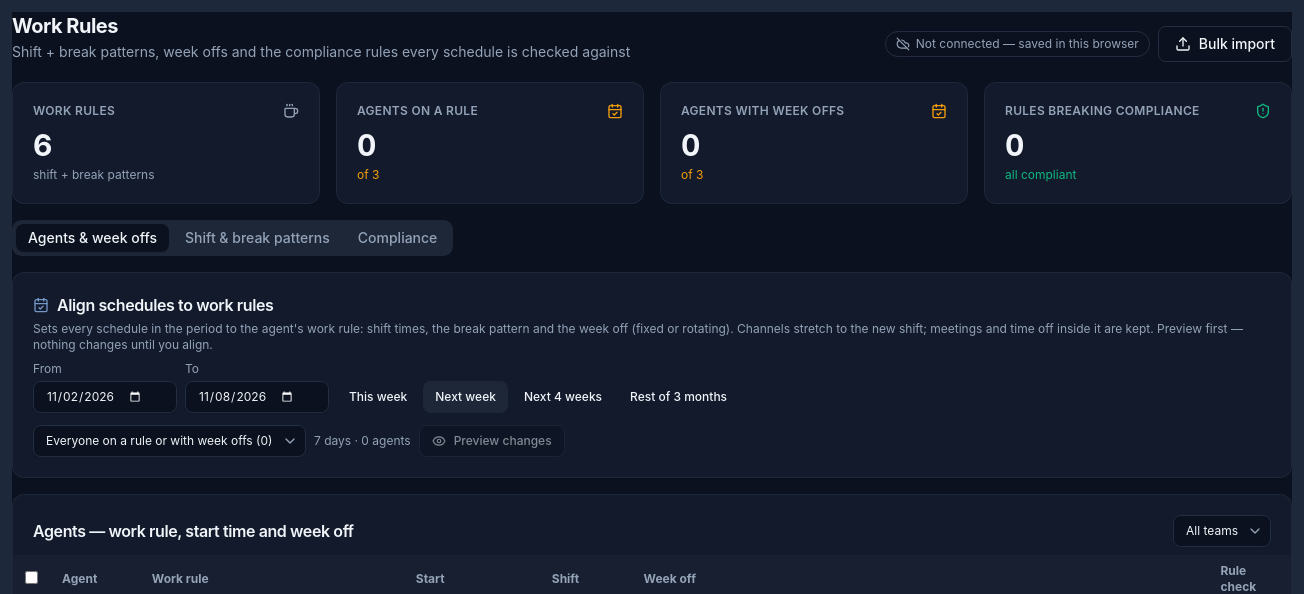
Work Rules page › staggers two days off in a row across the selected agents
Click the checkbox named "Select all": (32, 577) [25, 570, 38, 584]
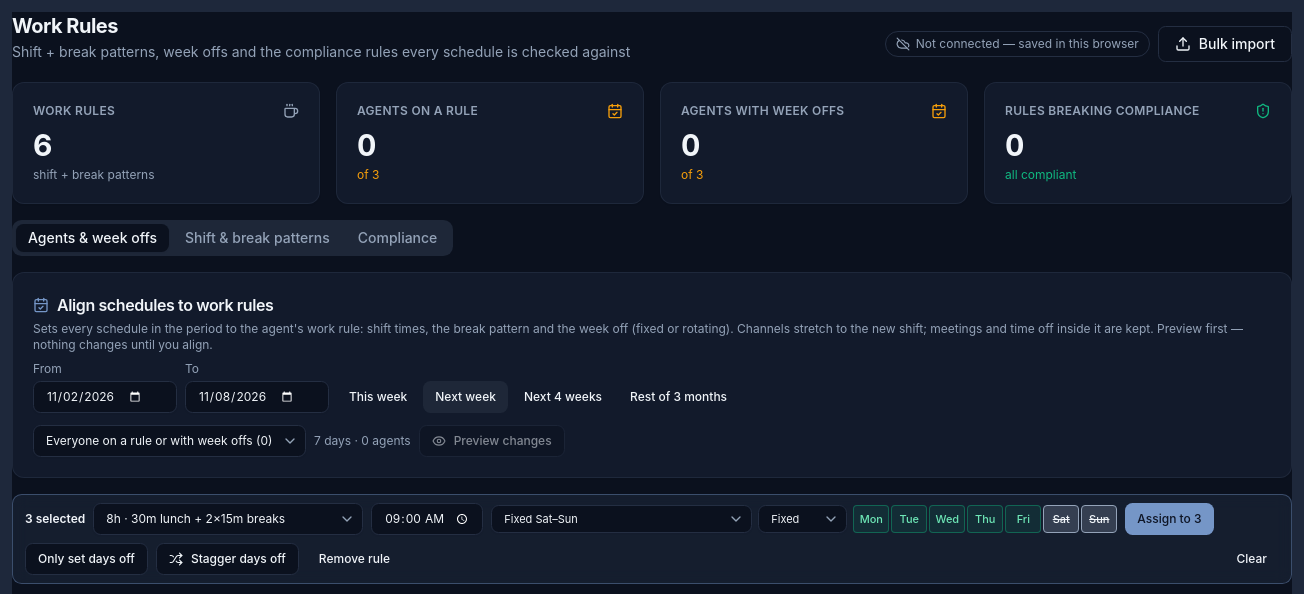
Click the button "Stagger days off": (227, 559) [156, 543, 299, 575]
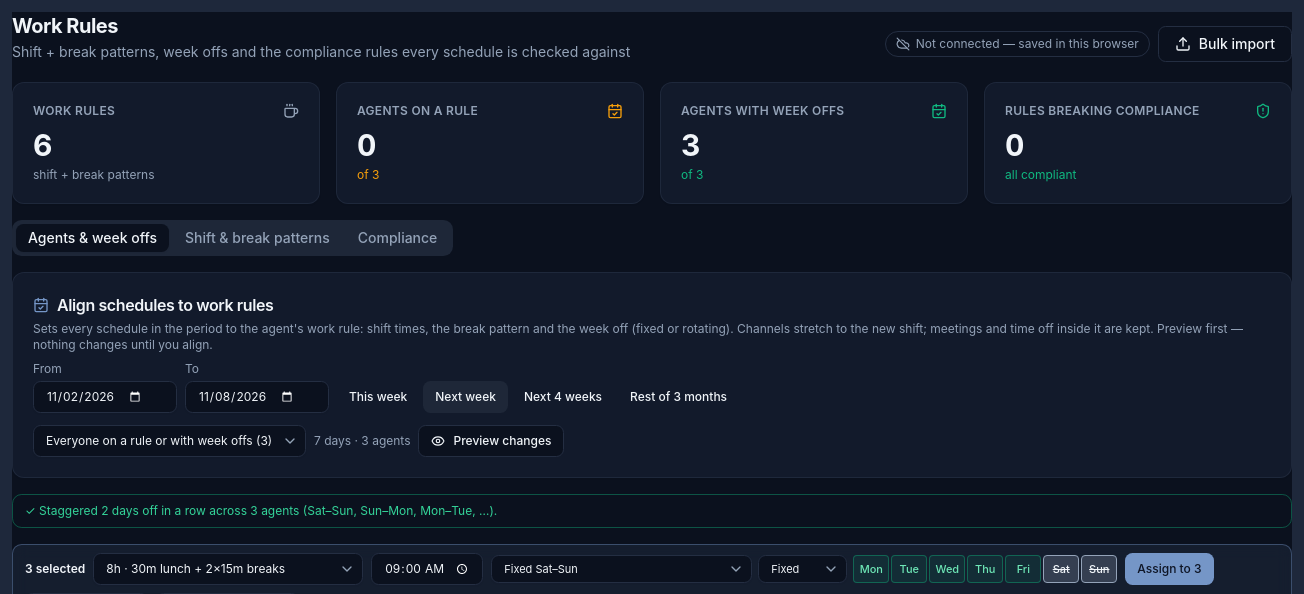
expect the text "Staggered 2 days off in a row across 3 agents" is shown: met, box [39, 503, 497, 518]
